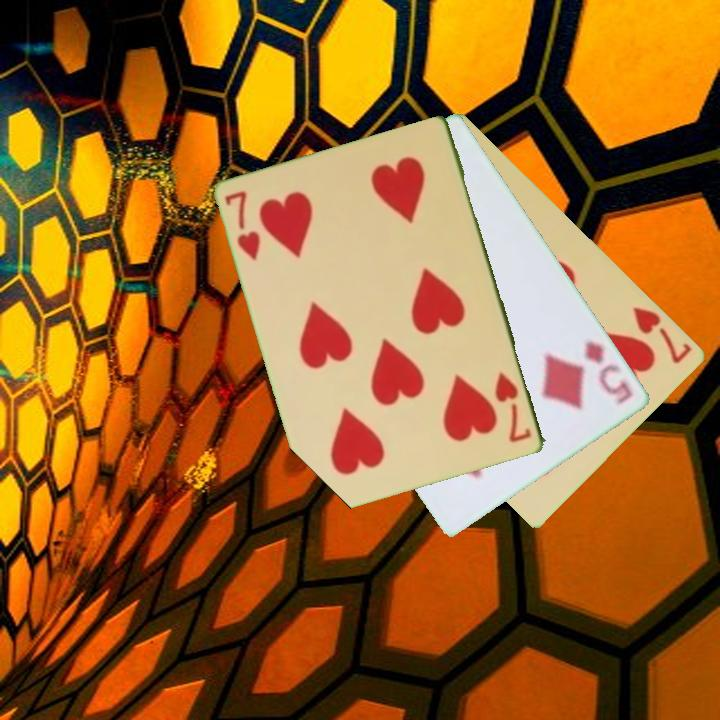5d: (581, 337, 636, 408)
7h: (629, 303, 695, 367), (492, 368, 535, 446), (222, 187, 264, 264)
